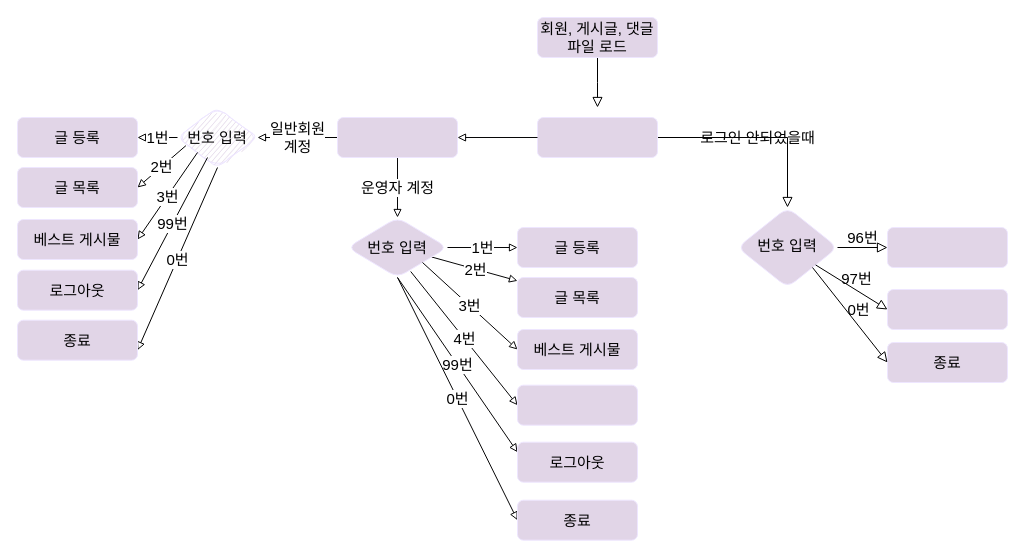
The diagram is 1025 pixels wide and 558 high, and some of its shapes have lost their labels. Here are the shapes that lost their labels. From the top down, the centre of each, then its label:
pixel 397 137: 로그인 계정 상태 확인
pixel 597 137: 로그인여부 확인
pixel 947 247: 회원가입
pixel 947 309: 로그인
pixel 577 404: 블라인드 관리
